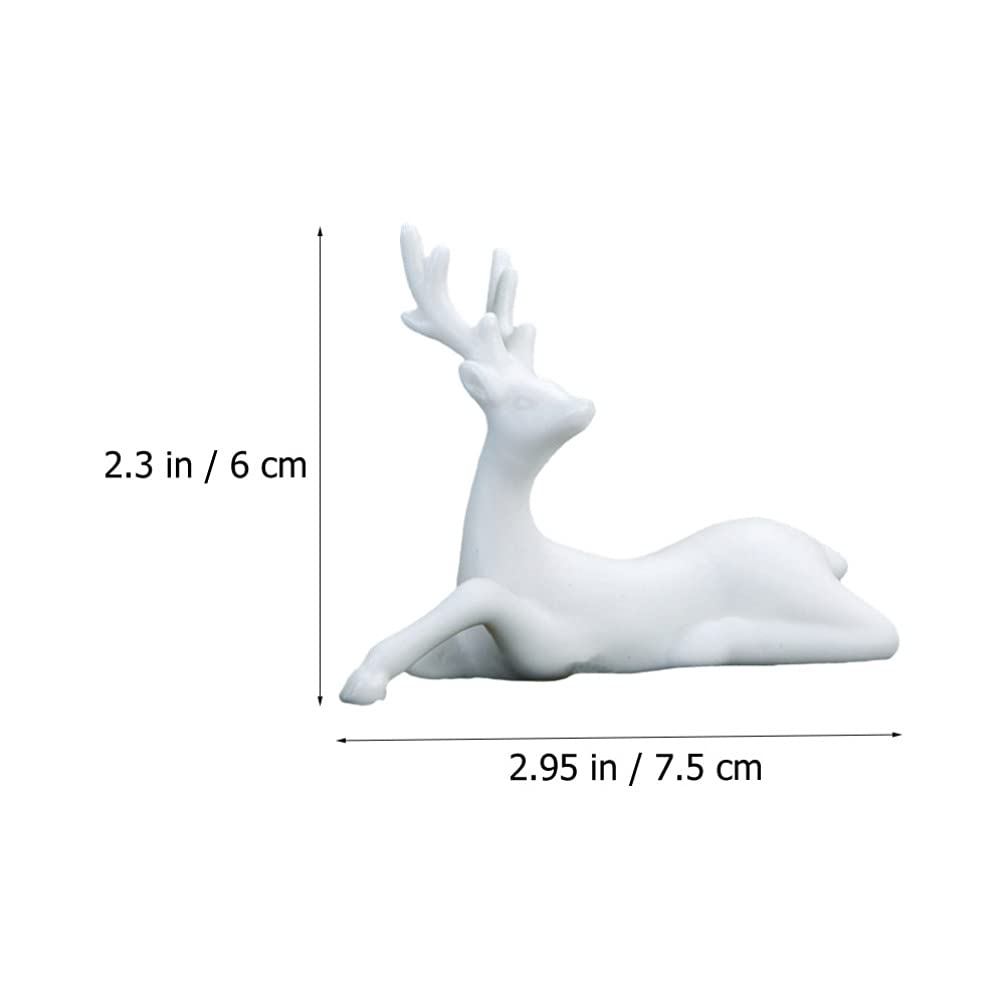2.3: (105, 451, 152, 479)
2.95: (510, 753, 577, 781)
in/6cm: (167, 450, 306, 484)
